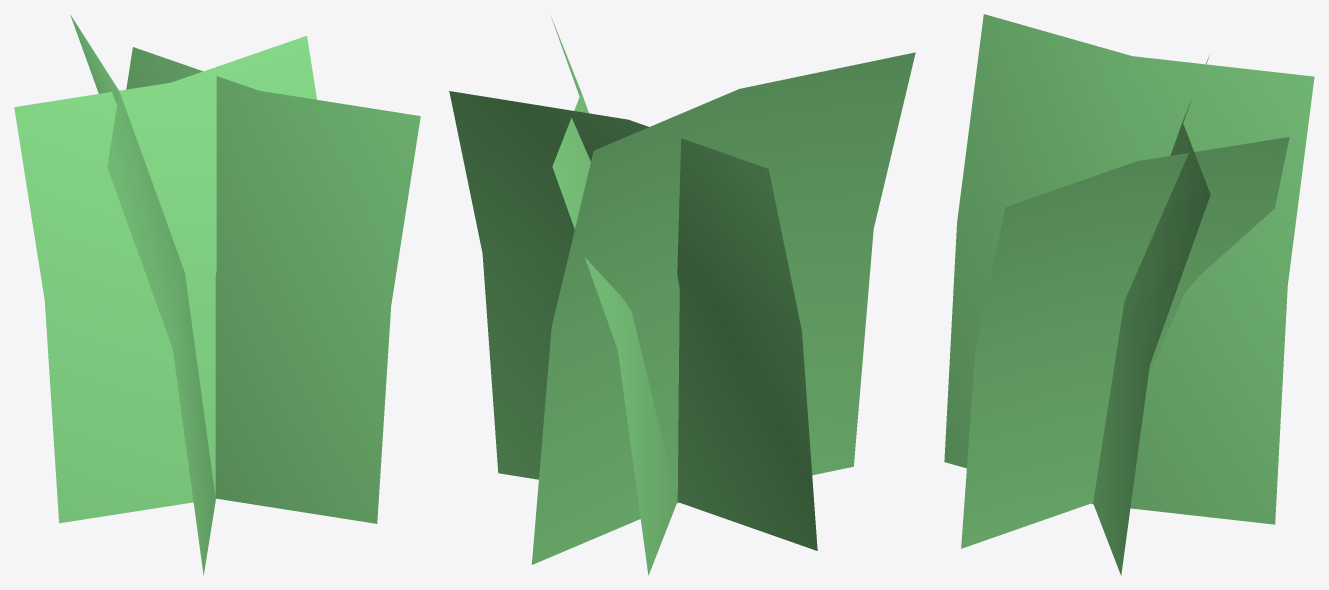
File: GrassPlanes_a_TwoS_08.fbx
The picture shows the model from 3 angles, left to right: view 1: azimuth 30°, elevation 25°; view 2: azimuth 150°, elevation 25°; view 3: azimuth 270°, elevation 25°; orthographic projection. The views are drawn at different scales.
Parts seen in each view (by area): view 1: GrassPlanes_a_TwoS_08; view 2: GrassPlanes_a_TwoS_08; view 3: GrassPlanes_a_TwoS_08.
Boxes of the visible parts, left/top/right/bottom form: GrassPlanes_a_TwoS_08: left=14, top=15, right=420, bottom=574; GrassPlanes_a_TwoS_08: left=449, top=16, right=915, bottom=575; GrassPlanes_a_TwoS_08: left=944, top=14, right=1314, bottom=575.
Bounding box in the file's own units: 46.03 × 56 × 45.72.
